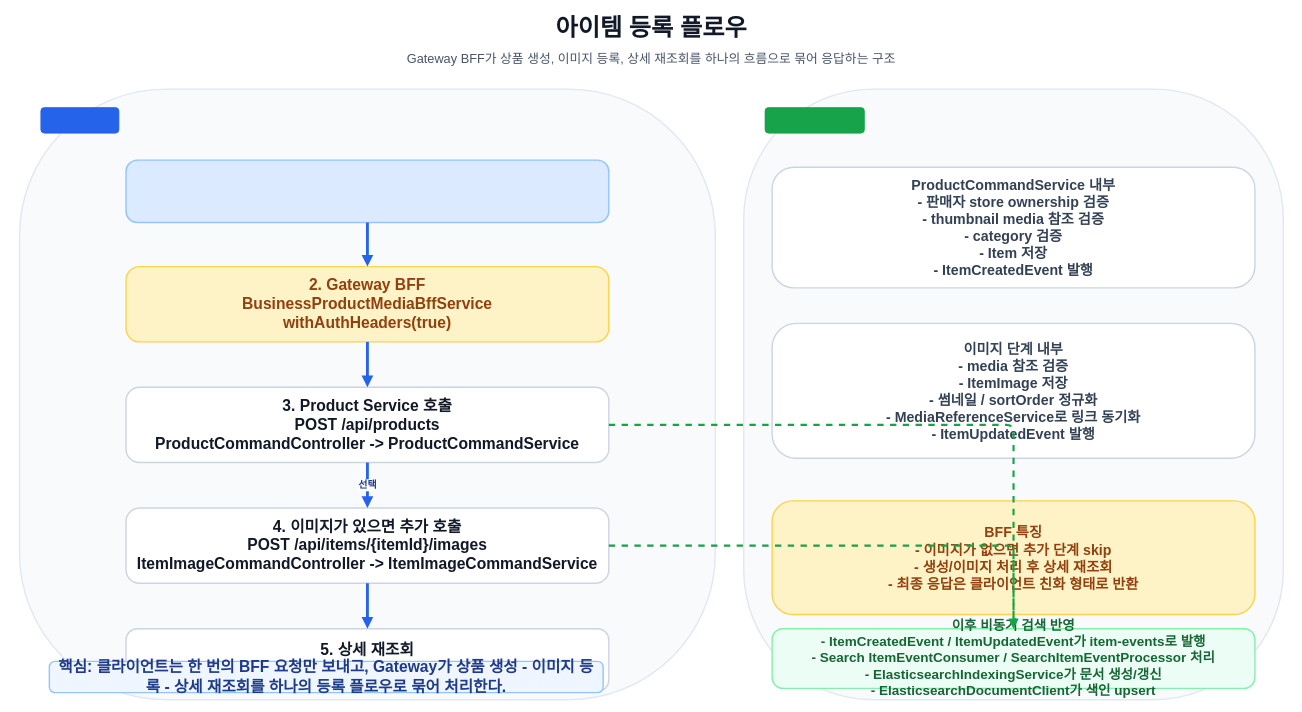
Image size: 1302x712. Some labels were removed from this diagram. Here are the shapes that lost their labels. From the top down, the centre of each, then its label:
[79,120]: 메인 플로우
[814,120]: 내부 처리 포인트
[367,191]: 1. Seller / Admin Client POST /bff/v1/products
